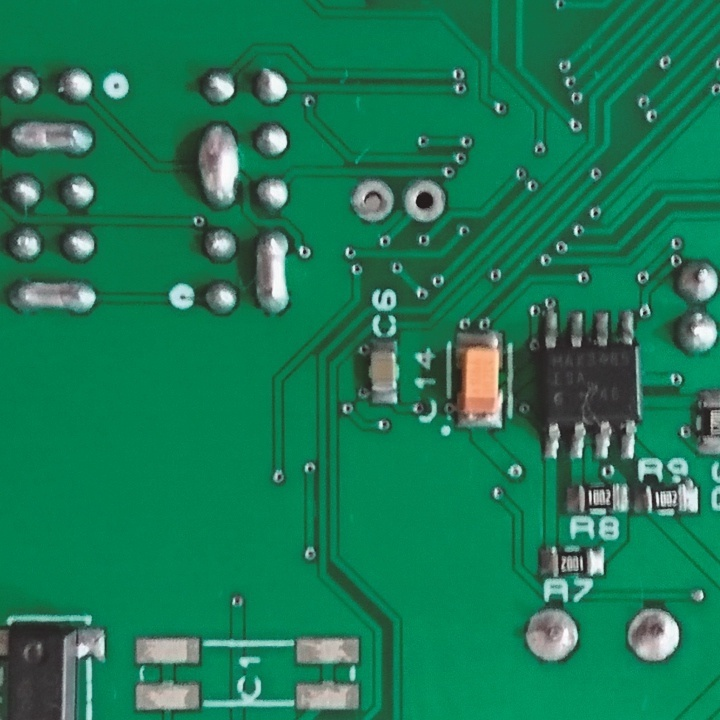F: (524, 606, 584, 664), (625, 606, 684, 664), (346, 176, 396, 227), (399, 175, 449, 226)
P: (194, 118, 244, 216), (4, 276, 106, 319), (5, 116, 97, 163), (254, 224, 293, 319)
